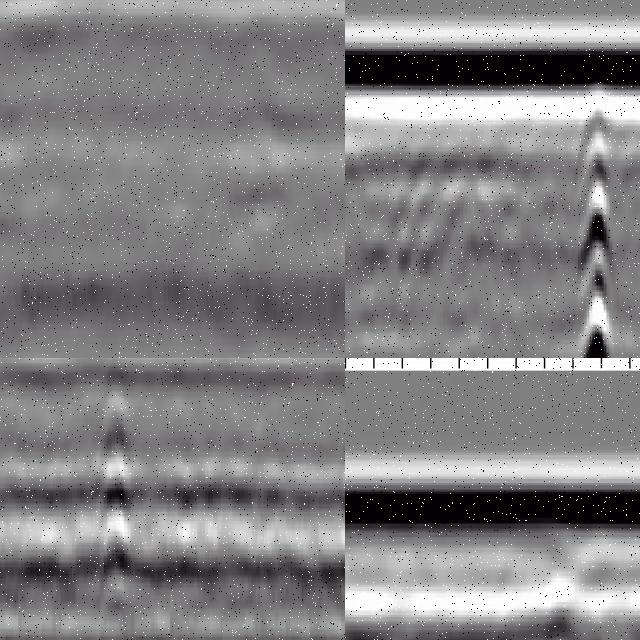crack: (577, 83, 617, 359), (99, 359, 131, 640)
loose: (346, 590, 640, 640)
